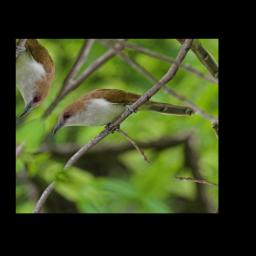Cuckoo: (45, 58, 198, 184)
